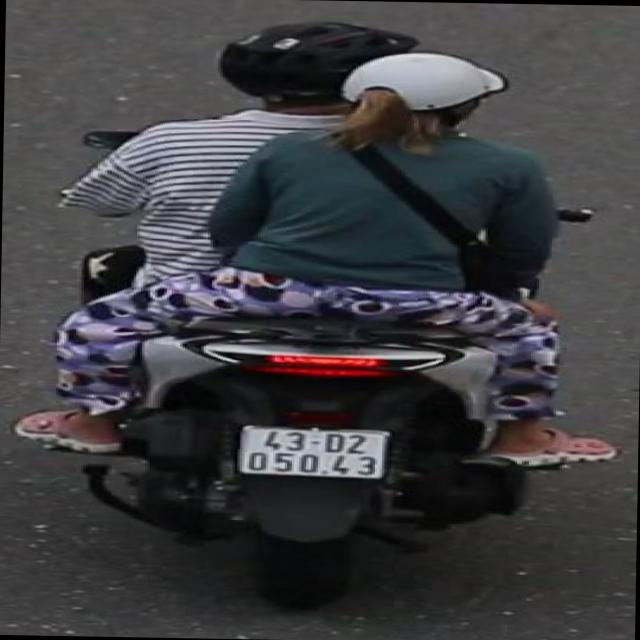LP: (235, 420, 398, 482)
helmet: (212, 13, 422, 124), (341, 46, 516, 148)
